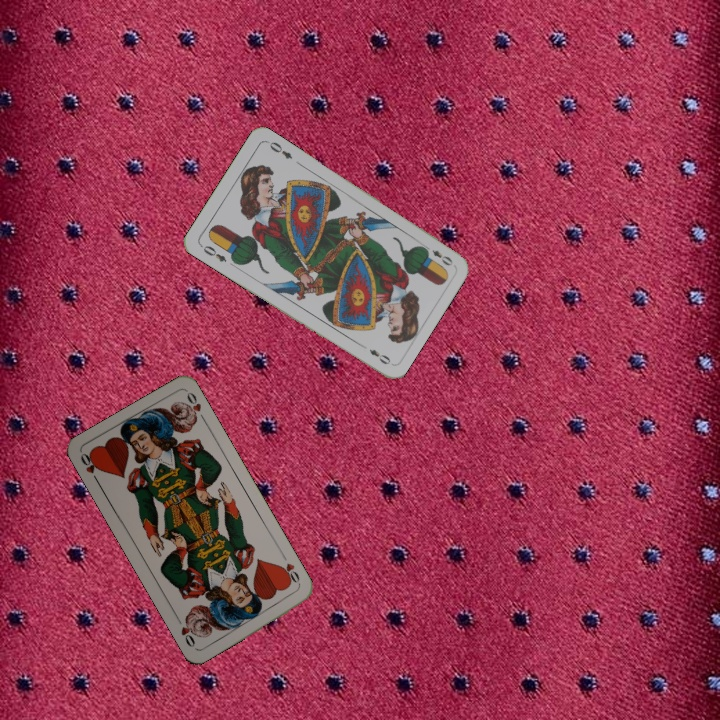EO: (419, 241, 456, 268), (196, 241, 229, 265)
HO: (276, 551, 303, 589), (76, 449, 102, 487)
